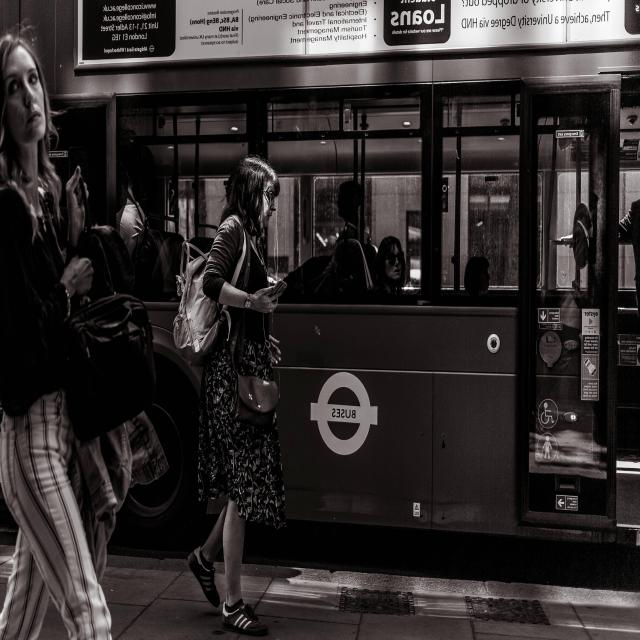adult: (0, 36, 113, 640), (190, 151, 290, 640)
